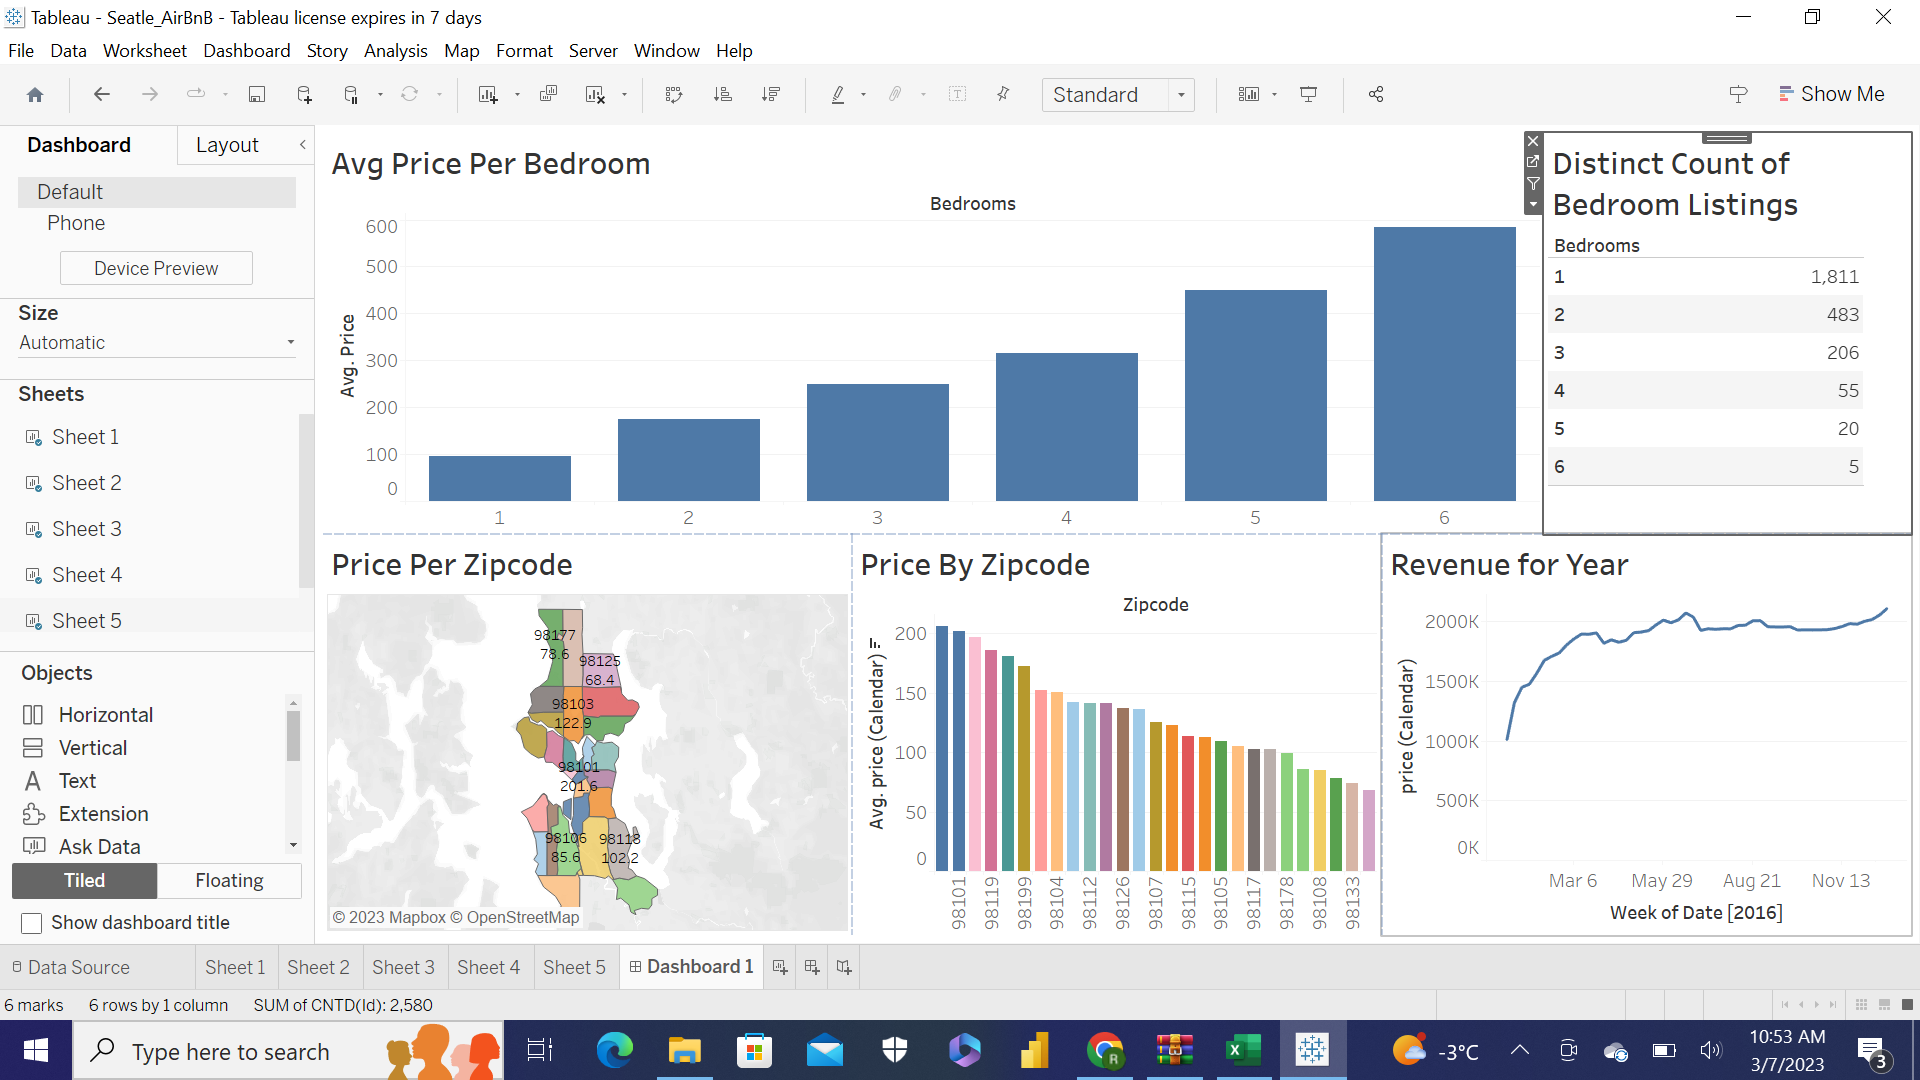

The page's visual inventory and layout, read from the dashboard file:
{"tool":"tableau","page":{"name":"Dashboard 1","canvas":[1000,1000],"units":"permille","ordinal":0},"visuals":[{"type":"worksheet","title":"Sheet 4","mark":"Automatic","rows":["price"],"cols":["bedrooms"],"box":[5,9.8,761,490.2]},{"type":"worksheet","title":"Sheet 5","mark":"Automatic","rows":["bedrooms"],"box":[766,9.8,229,490.2]},{"type":"worksheet","title":"Sheet 2","mark":"Multipolygon","box":[5,500,330,490.2]},{"type":"worksheet","title":"Sheet 1","mark":"Automatic","rows":["price (Calendar)"],"cols":["zipcode"],"box":[335,500,330,490.2]},{"type":"worksheet","title":"Sheet 3","mark":"Automatic","rows":["price (Calendar)"],"cols":["date"],"box":[665,500,330,490.2]}]}

Visuals, with their boxes on the dashboard's canvas, which has no fixed pixel size, in thousandths of its width and height (x1, y1, x2, y2). These are canvas units, not pixel positions in the 1920x1080 screenshot, which may show the page scaled, cropped or inside an application window:
"Sheet 4" worksheet: {"x1": 5, "y1": 10, "x2": 766, "y2": 500}
"Sheet 5" worksheet: {"x1": 766, "y1": 10, "x2": 995, "y2": 500}
"Sheet 2" worksheet (Multipolygon marks): {"x1": 5, "y1": 500, "x2": 335, "y2": 990}
"Sheet 1" worksheet: {"x1": 335, "y1": 500, "x2": 665, "y2": 990}
"Sheet 3" worksheet: {"x1": 665, "y1": 500, "x2": 995, "y2": 990}
